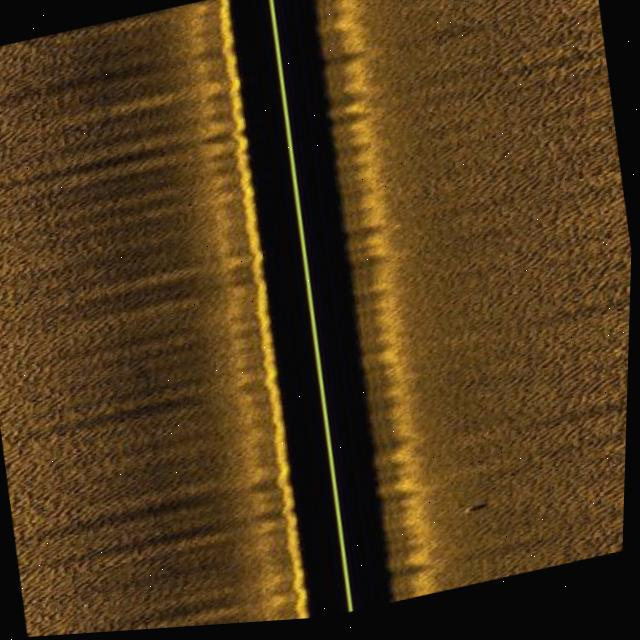other: (461, 509, 493, 526)
